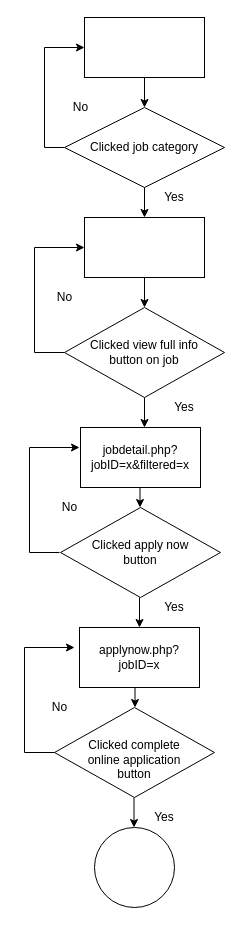
Some shapes in this 242 by 925 pixel diagram are drawn without their labels. The centre of each missing label's shape, as x and y in pixels:
"filteredjobs.php?pid=x" belongs at pixel 144 247.
"opportunities.php" belongs at pixel 144 47.
"PG 2 Begin Job Application" belongs at pixel 134 867.
